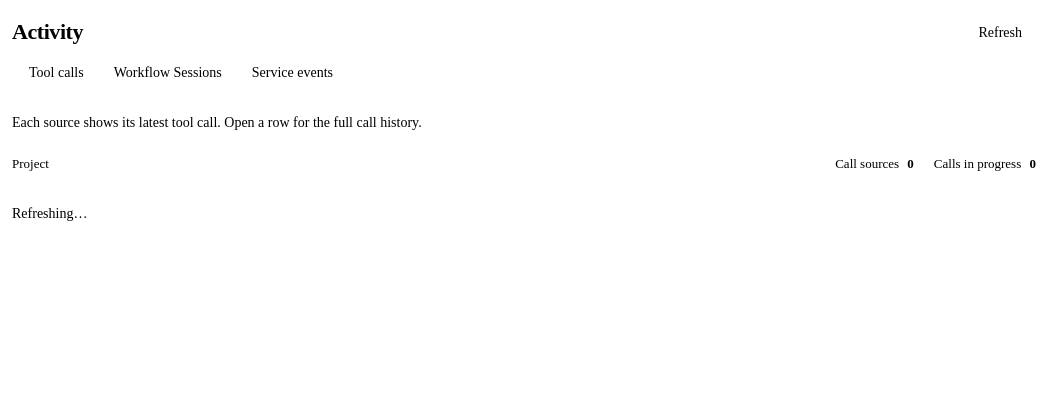
it: product workspace task flows › reports partial Session history for return truncation=false and scan truncation=false
Click the tab "Workflow Sessions" at (168, 72), box [100,55,236,89]
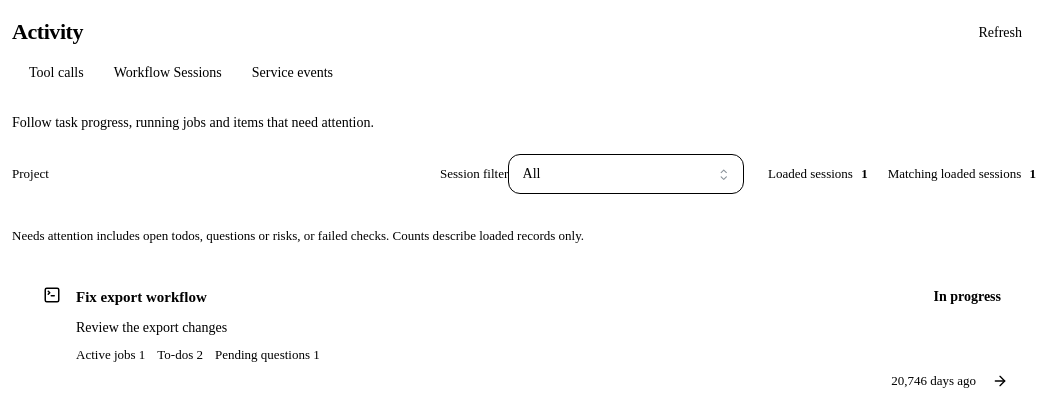
Expected: the text "Fix export workflow" is shown, [76,289,207,305]
